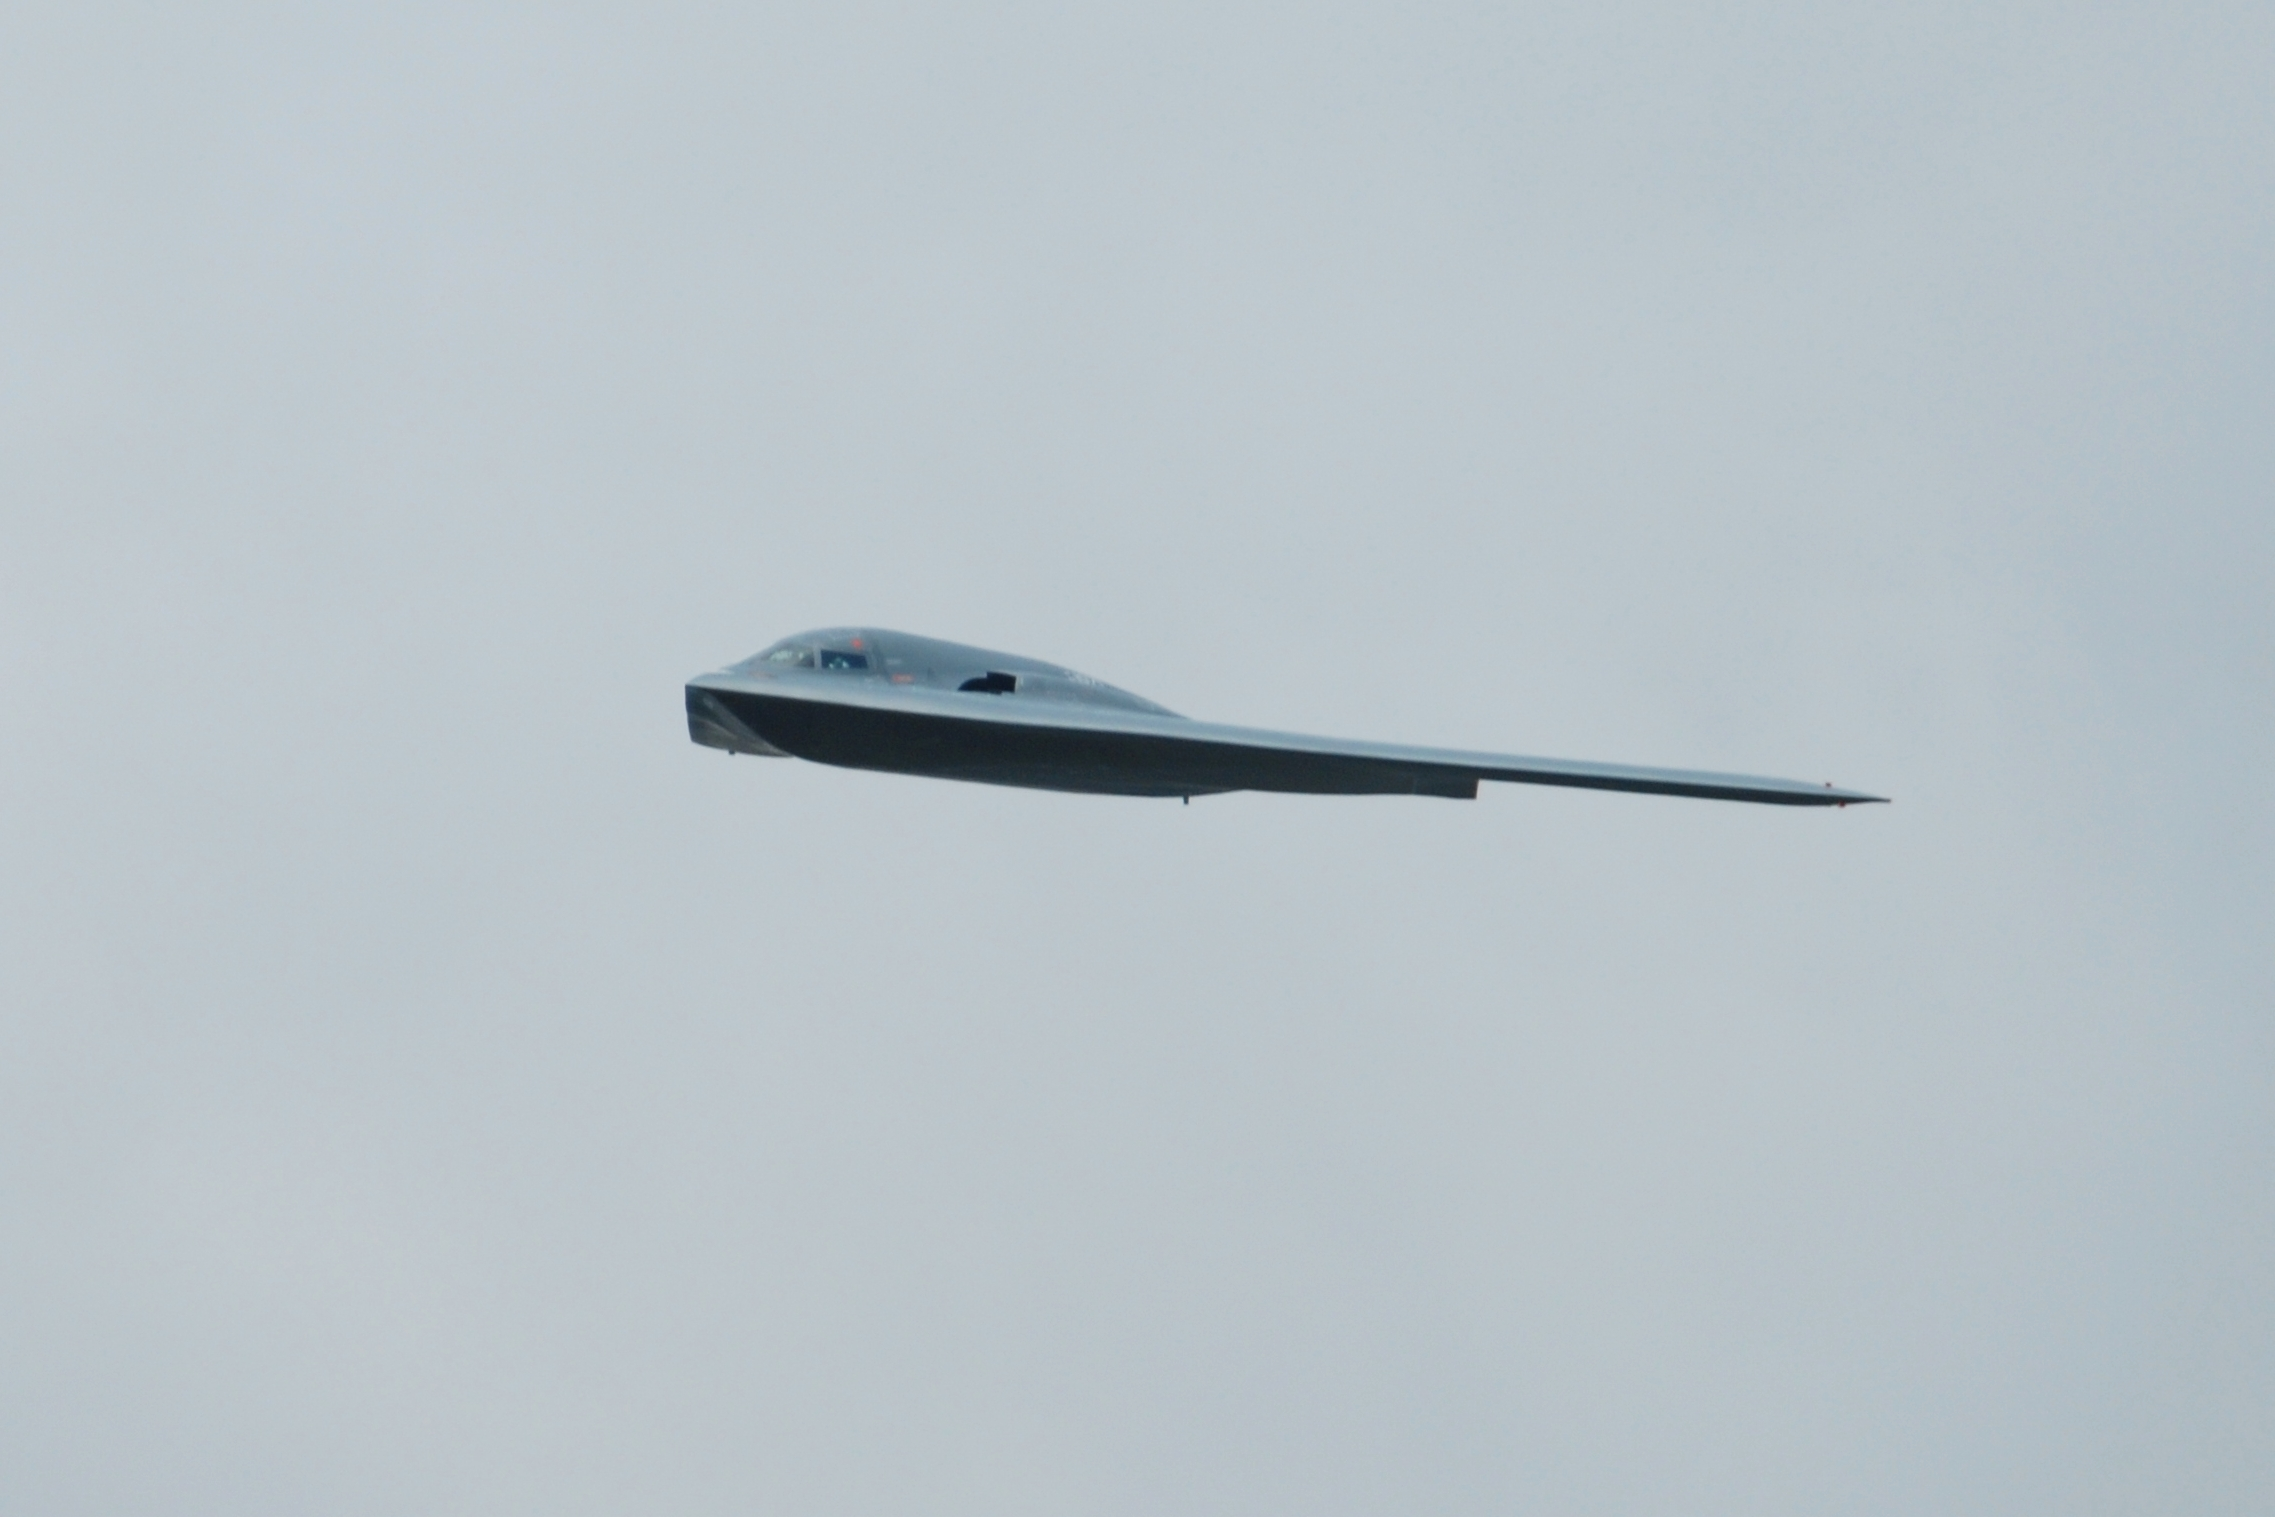B2: (684, 625, 1892, 808)
